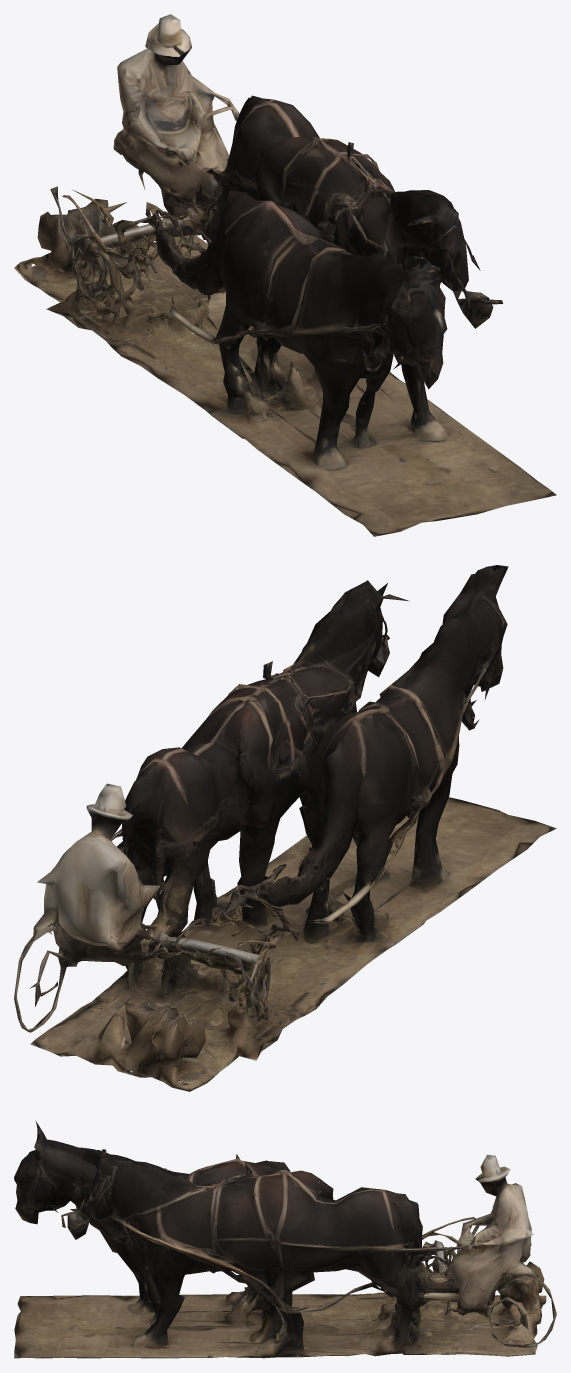
File: fields.glb
3 renders of one model, top to bottom at view 1: azimuth 30°, elevation 25°; view 2: azimuth 150°, elevation 25°; view 3: azimuth 270°, elevation 25°, orthographic. The views are drawn at different scales.
Bounding box in the file's own units: 0.62 × 0.7699 × 2.
1 material, 1 textured.
